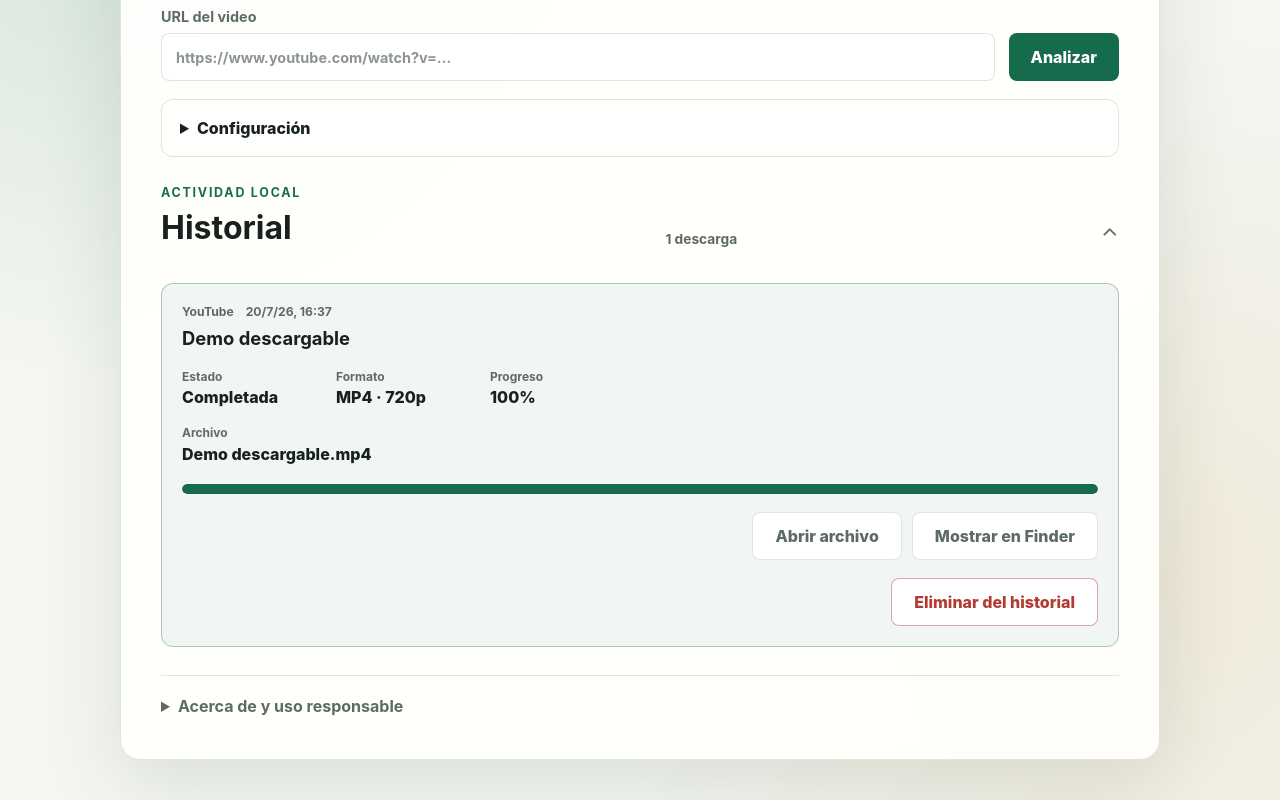
Test: App › confirms and removes a terminal history entry
(page scrolled)
Click the button "Eliminar del historial". click: (995, 602)
box: [891, 578, 1098, 626]
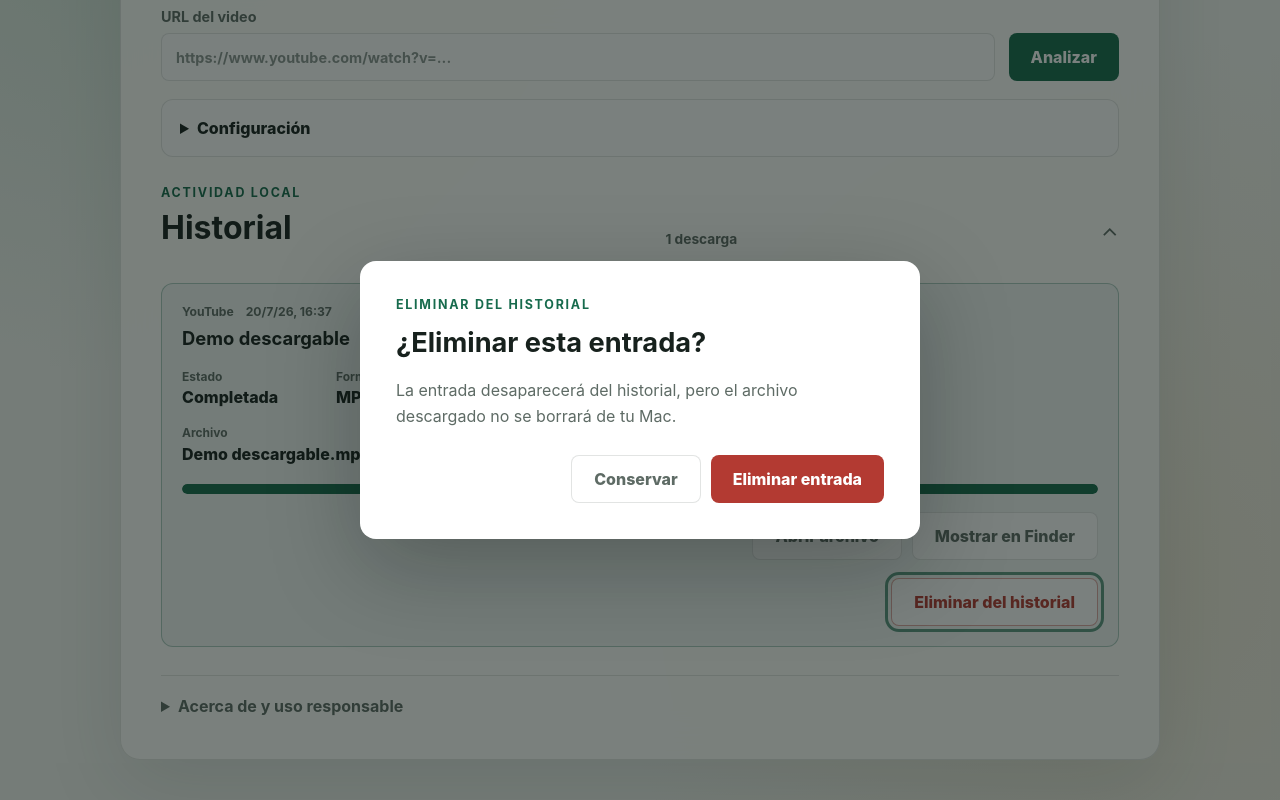
Expected: the dialog "¿Eliminar esta entrada?" shows "el archivo descargado no se borrará", [396, 380, 798, 426]
Click the button "Conservar". click: (636, 479)
box: [571, 455, 701, 503]
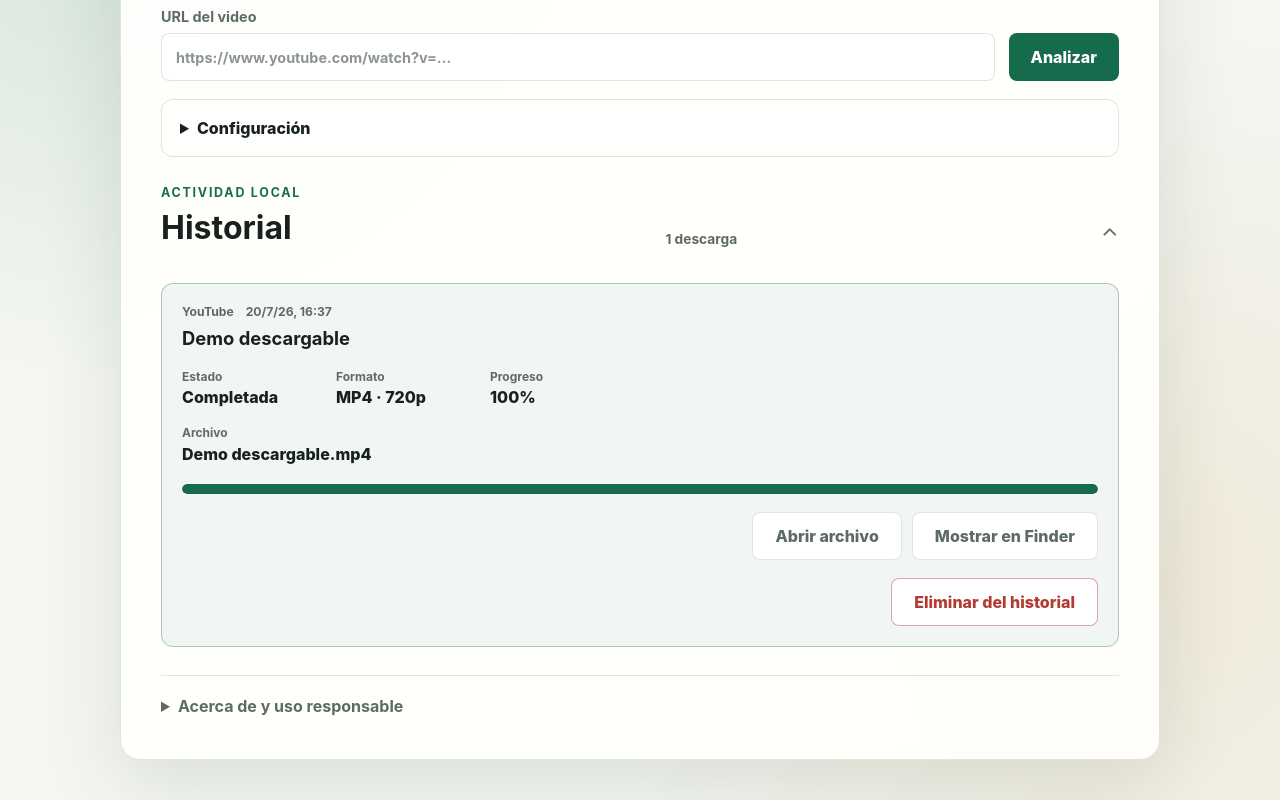
Expected: the heading "Demo descargable" is shown, [182, 327, 350, 349]
Click the button "Eliminar del historial". click: (995, 602)
box: [891, 578, 1098, 626]
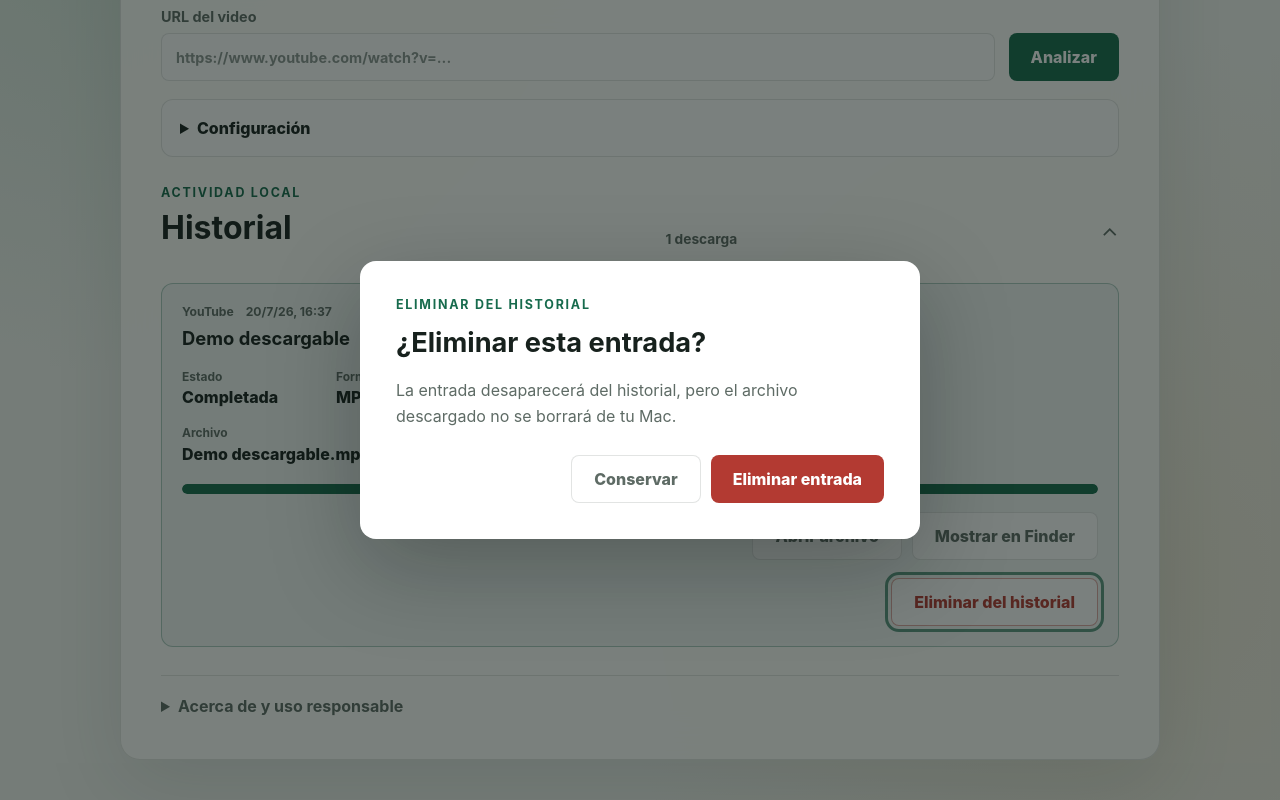
Click the button "Eliminar entrada". click: (797, 479)
box: [711, 455, 884, 503]
(page scrolled)
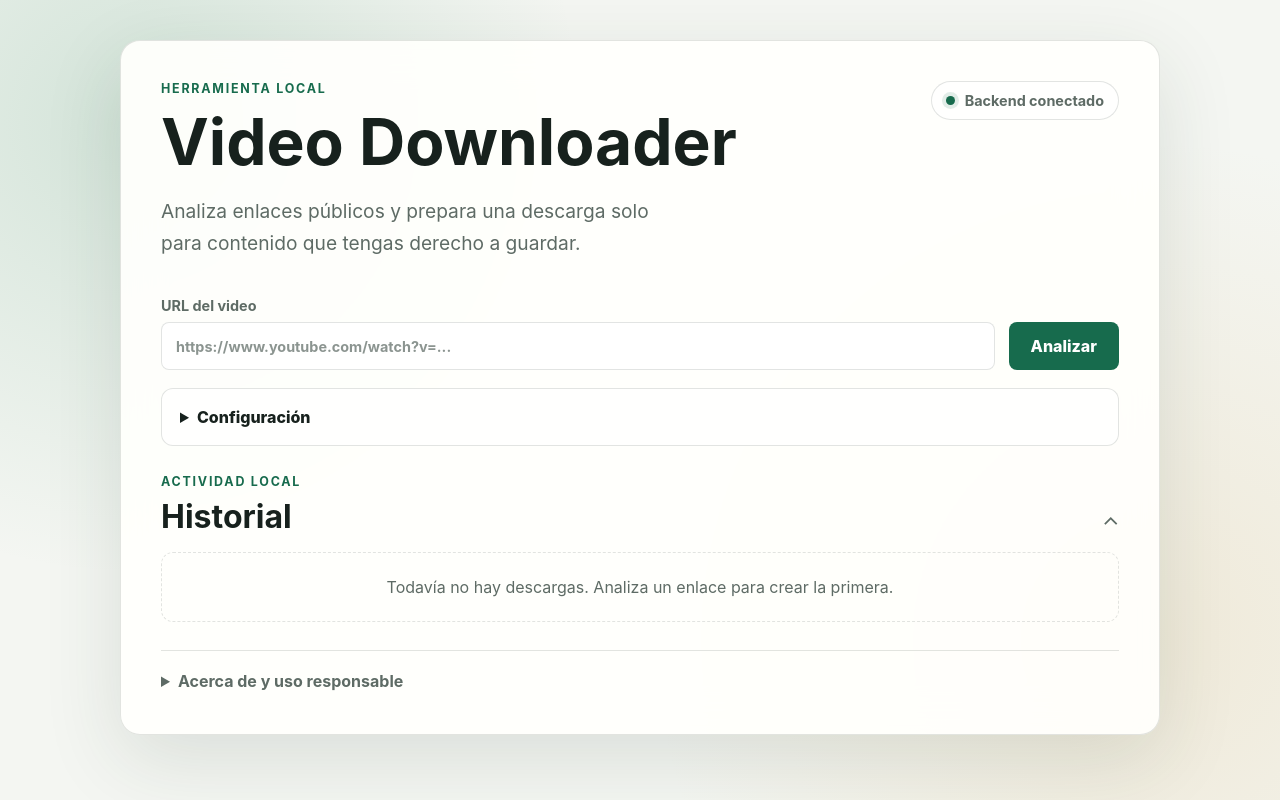
Expected: the text "Todavía no hay descargas" is shown, [387, 577, 894, 597]
Expected: the heading "Demo descargable" is gone
